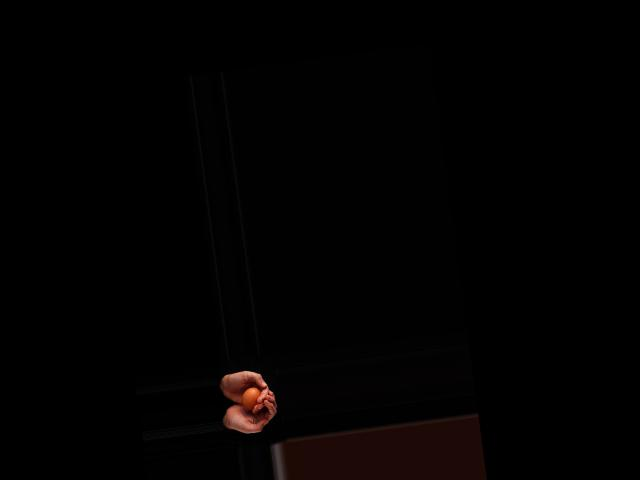egg: (239, 386, 262, 412)
